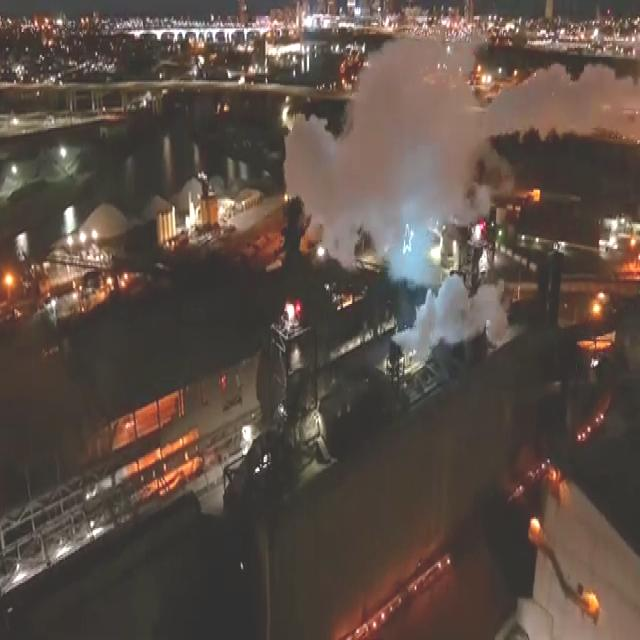smoke: (289, 37, 472, 261), (393, 272, 536, 400), (483, 62, 640, 148)
